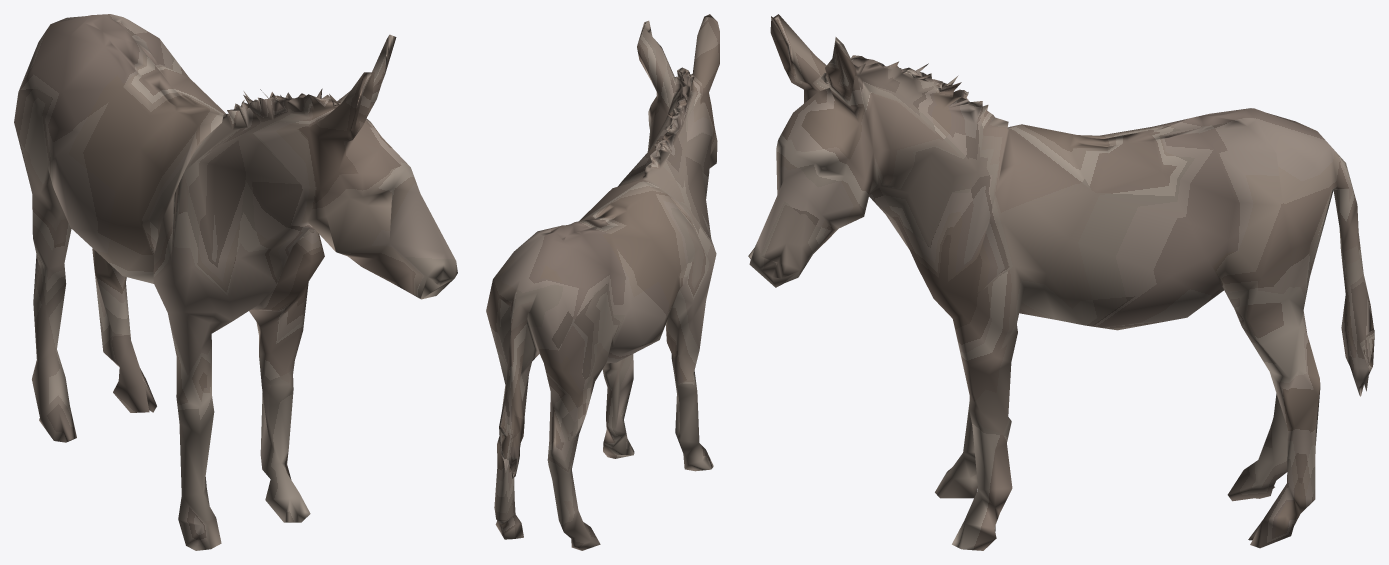
File: sa_donkey.glb
The picture shows the model from 3 angles, left to right: view 1: azimuth 30°, elevation 25°; view 2: azimuth 150°, elevation 25°; view 3: azimuth 270°, elevation 25°; orthographic projection. The views are drawn at different scales.
Parts seen in each view (by area): view 1: sa_donkey; view 2: sa_donkey; view 3: sa_donkey.
Part boxes in pixels (x1,y1,x2,y2): sa_donkey: (14, 14, 457, 550); sa_donkey: (486, 14, 719, 550); sa_donkey: (748, 14, 1374, 550).
Size of the model in its own units: 0.345 by 0.9145 by 0.992.
Materials: 1 (1 with a texture image).
